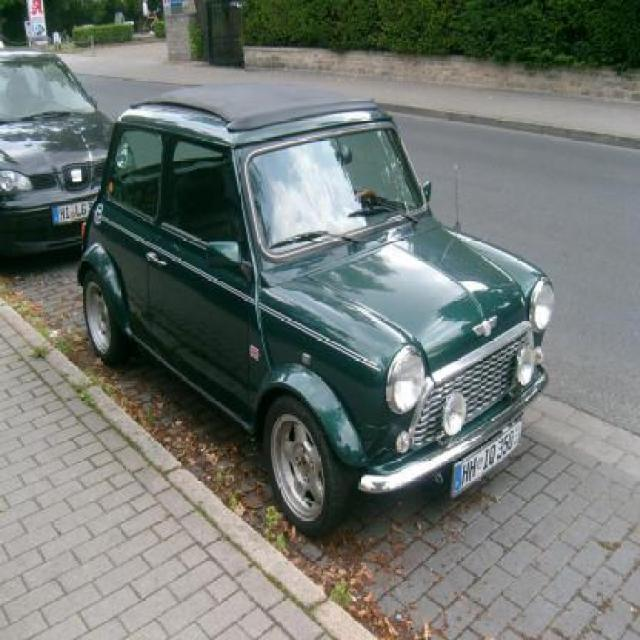License-Plates: (448, 420, 525, 501), (53, 196, 104, 223)
